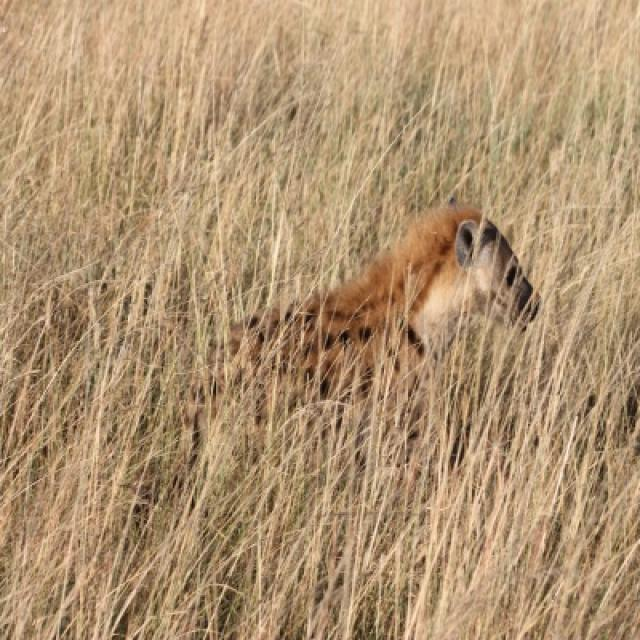hyena: (286, 205, 541, 363)
